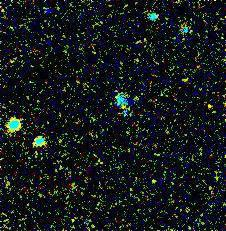star: (196, 92, 226, 122)
